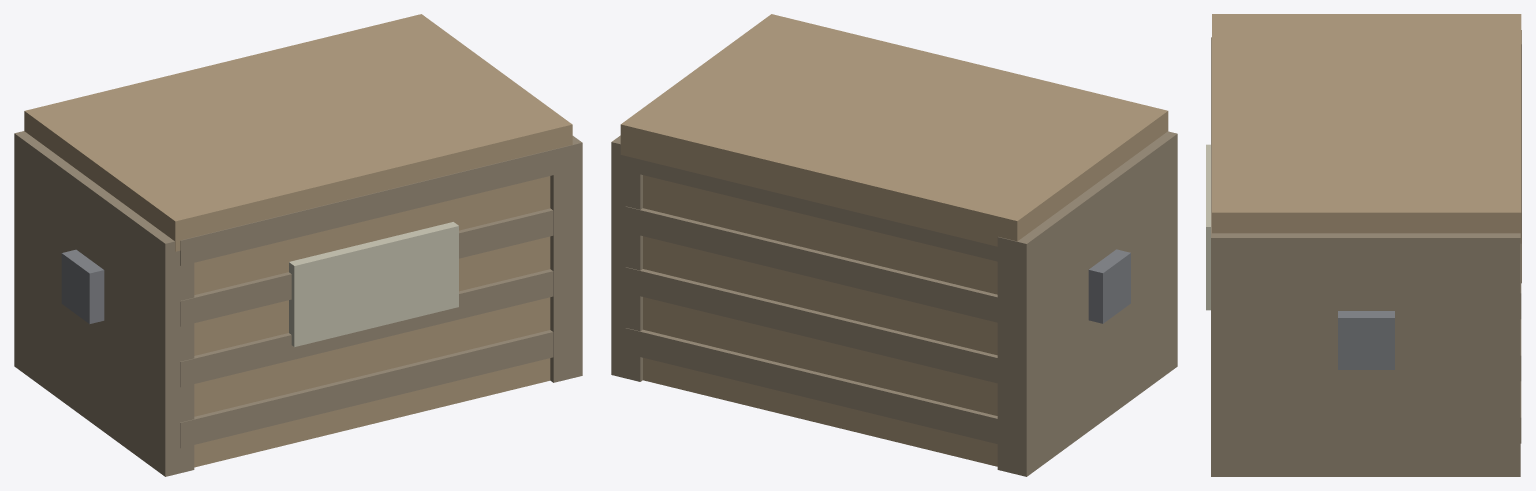
The model's file is armoured-column-and-field-camp-ration-crate-7a8b0c5d__23721.glb.
The picture shows the model from 3 angles, left to right: view 1: azimuth 30°, elevation 25°; view 2: azimuth 150°, elevation 25°; view 3: azimuth 270°, elevation 25°; orthographic projection. The views are drawn at different scales.
Visible parts, largest first — view 1: ration-crate; view 2: ration-crate; view 3: ration-crate.
Boxes of the visible parts, bbox=[...] form: ration-crate: bbox=[14, 14, 582, 476]; ration-crate: bbox=[611, 14, 1177, 476]; ration-crate: bbox=[1206, 14, 1521, 476].
Bounding box in the file's own units: 0.92 × 0.5001 × 0.5512.
